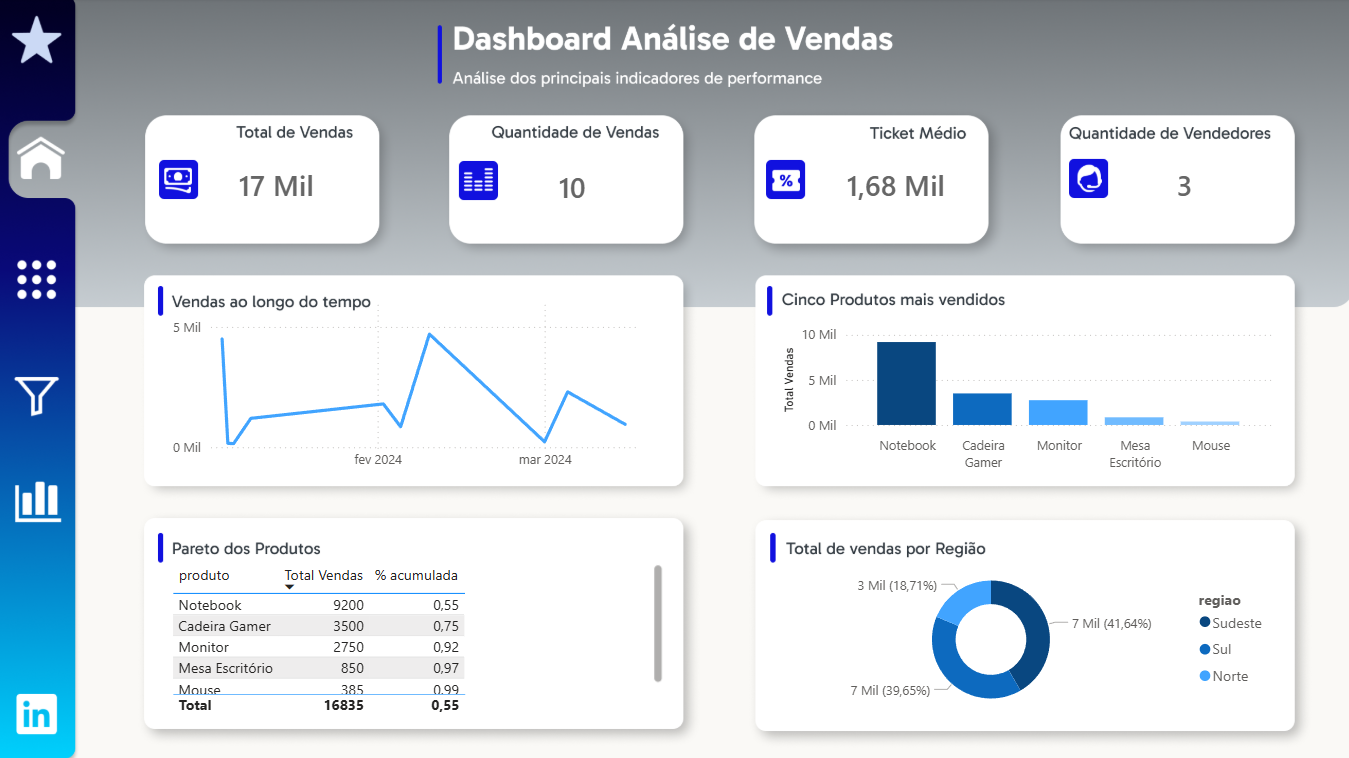

This screenshot's page, from the dashboard's own definition file:
{"tool":"powerbi","page":{"name":"Página 4","canvas":[1280,720],"ordinal":3},"visuals":[{"type":"cardVisual","fields":{"Data":["Tabela2.Total Vendas"]},"box":[198.2,142.5,147.3,64.2],"z":0},{"type":"cardVisual","fields":{"Data":["Tabela2.Qtd Vendas"]},"box":[500.3,145.4,121.8,61.4],"z":1000},{"type":"cardVisual","fields":{"Data":["Tabela2.Ticket Médio"]},"box":[772.2,136.9,151,75.5],"z":2000},{"type":"lineChart","title":"Vendas ao longo do tempo","fields":{"Y":["Tabela2.Total Vendas"],"Category":["Calendario.Date.Variation.Hierarquia de datas.Ano","Calendario.Date.Variation.Hierarquia de datas.Trimestre","Calendario.Date.Variation.Hierarquia de datas.Mês","Calendario.Date.Variation.Hierarquia de datas.Dia"]},"box":[159.5,273.7,462.5,180.3],"z":3000},{"type":"columnChart","title":"top 5 produtos por faturamento ","fields":{"Category":["Tabela2.produto"],"Y":["Tabela2.Total Vendas"]},"box":[736.3,304,471,150.1],"z":4000},{"type":"tableEx","title":"Pareto","fields":{"Values":["Tabela2.produto","Tabela2.Total Vendas","Tabela2.% acumulada"]},"box":[159.5,529.6,472.9,152],"z":5000},{"type":"actionButton","box":[0,341.7,66.1,56.6],"z":9000},{"type":"donutChart","fields":{"Category":["Tabela2.regiao"],"Y":["Tabela2.Total Vendas"]},"box":[736.3,529.6,471,152],"z":10000},{"type":"cardVisual","fields":{"Data":["Tabela2.qtd vendedores"]},"box":[1083.7,142.5,78.3,64.2],"z":11001}]}

Visuals, with their boxes on the page's 1280x720 design canvas (x1, y1, x2, y2). These are canvas units, not pixel positions in the 1349x758 screenshot, which may show the page scaled, cropped or inside an application window:
cardVisual - Tabela2.Total Vendas: <box>198,142,346,207</box>
cardVisual - Tabela2.Qtd Vendas: <box>500,145,622,207</box>
cardVisual - Tabela2.Ticket Médio: <box>772,137,923,212</box>
"Vendas ao longo do tempo" lineChart: <box>160,274,622,454</box>
"top 5 produtos por faturamento " columnChart: <box>736,304,1207,454</box>
"Pareto" tableEx: <box>160,530,632,682</box>
actionButton: <box>0,342,66,398</box>
donutChart - Tabela2.regiao x Tabela2.Total Vendas: <box>736,530,1207,682</box>
cardVisual - Tabela2.qtd vendedores: <box>1084,142,1162,207</box>
